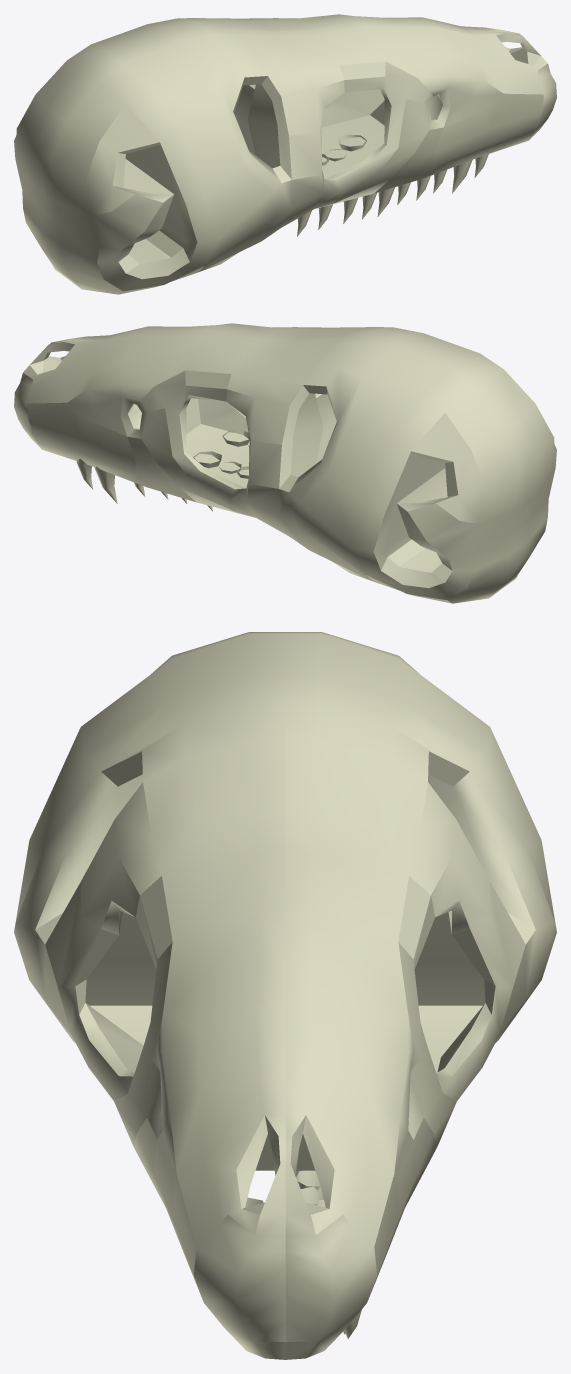
Rendered from skull.fbx.
3 renders of one model, top to bottom at view 1: azimuth 30°, elevation 25°; view 2: azimuth 150°, elevation 25°; view 3: azimuth 270°, elevation 25°, orthographic. The views are drawn at different scales.
Parts seen in each view (by area): view 1: pPlane8; view 2: pPlane8; view 3: pPlane8.
Boxes of the visible parts, bbox=[...] form: pPlane8: bbox=[14, 14, 556, 294]; pPlane8: bbox=[14, 323, 556, 603]; pPlane8: bbox=[14, 632, 556, 1359].
Size of the model in its own units: 13.26 by 5.53 by 6.43.
